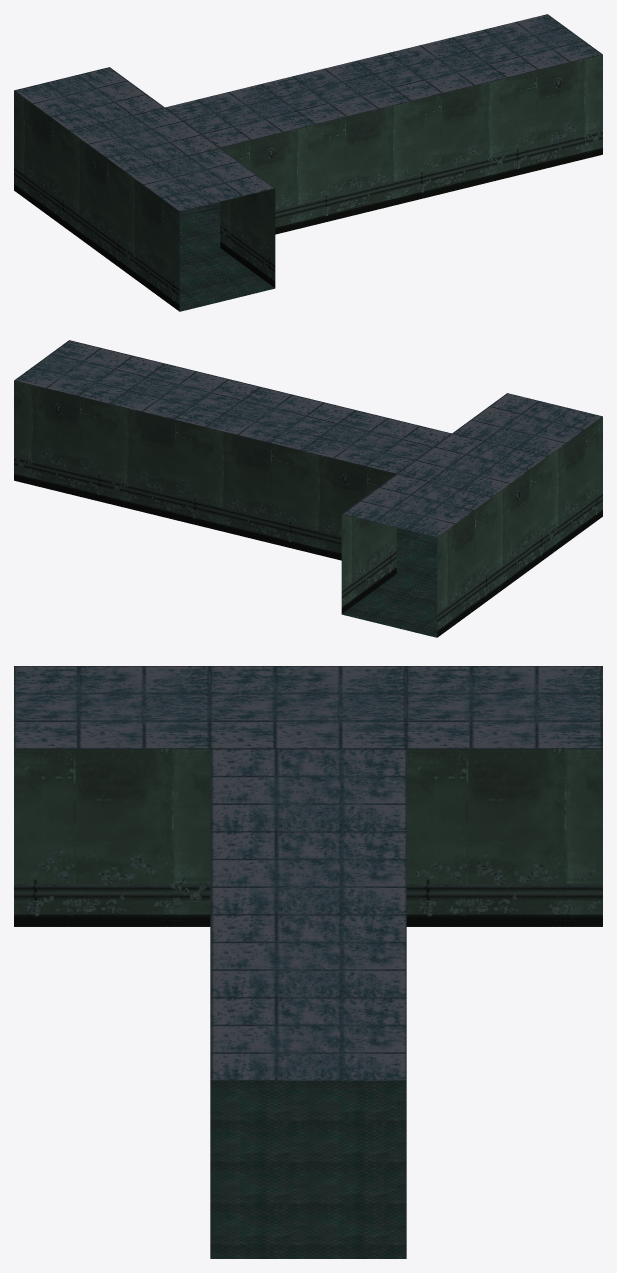
The model's file is SM_Scenary.obj.
3 views of the same model, one above another, from view 1: azimuth 30°, elevation 25°; view 2: azimuth 150°, elevation 25°; view 3: azimuth 270°, elevation 25° (orthographic). The views are drawn at different scales.
Visible parts, largest first — view 1: ceiling, ceiling.001, wall.006, wall.002, wall, wall.001, wall.005, wall.004, wall.003, floor.001, floor; view 2: ceiling, ceiling.001, wall.004, wall.002, wall, wall.001, wall.005, wall.006, wall.003, floor.001, floor; view 3: ceiling, ceiling.001, floor, wall.004, wall.006.
Boxes of the visible parts, bbox=[...] form: ceiling: bbox=[165, 14, 602, 147]; ceiling.001: bbox=[14, 67, 274, 211]; wall.006: bbox=[124, 172, 275, 311]; wall.002: bbox=[411, 78, 507, 201]; wall: bbox=[507, 54, 602, 177]; wall.001: bbox=[316, 101, 411, 224]; wall.005: bbox=[69, 131, 124, 271]; wall.004: bbox=[14, 90, 69, 230]; wall.003: bbox=[220, 124, 315, 234]; floor.001: bbox=[179, 219, 274, 311]; floor: bbox=[179, 202, 220, 247]; ceiling: bbox=[14, 340, 451, 473]; ceiling.001: bbox=[342, 393, 602, 537]; wall.004: bbox=[341, 498, 492, 637]; wall.002: bbox=[109, 404, 205, 527]; wall: bbox=[14, 380, 109, 503]; wall.001: bbox=[205, 427, 300, 550]; wall.005: bbox=[492, 457, 547, 597]; wall.006: bbox=[547, 416, 602, 556]; wall.003: bbox=[301, 450, 396, 560]; floor.001: bbox=[342, 545, 437, 637]; floor: bbox=[396, 528, 437, 573]; ceiling: bbox=[210, 749, 406, 1080]; ceiling.001: bbox=[14, 666, 602, 748]; floor: bbox=[210, 1081, 406, 1258]; wall.004: bbox=[406, 749, 602, 926]; wall.006: bbox=[14, 749, 210, 926].
Size of the model in its own units: 10 by 2 by 6.
